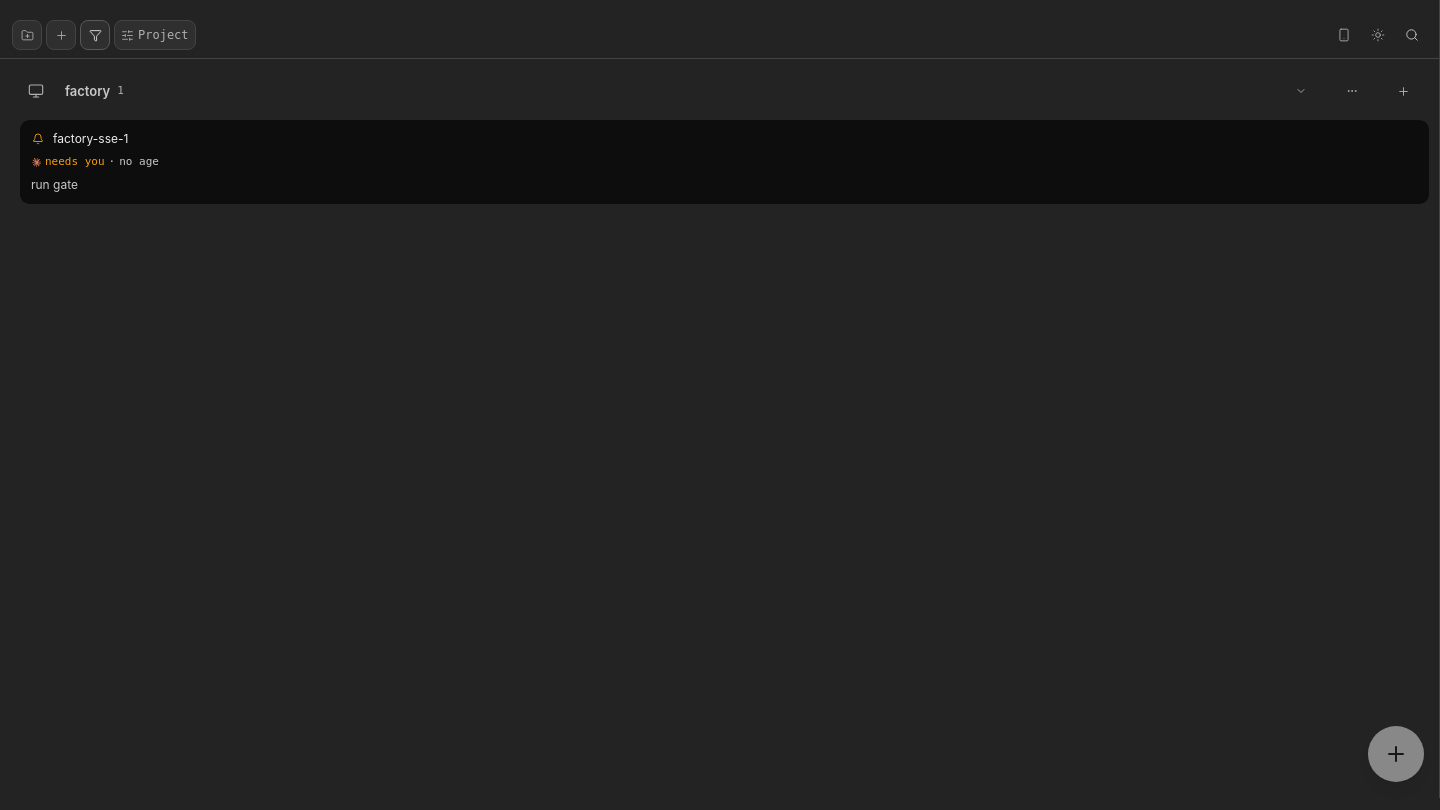
the phone session screen’s identity › names the session once, in the app bar, and keeps the prompt target there
What coordinates should you click on to do the following:
click the button "factory-sse-1 needs you · no age run gate"
I would click on:
 (91, 138)
Its box is [20, 120, 1429, 204].
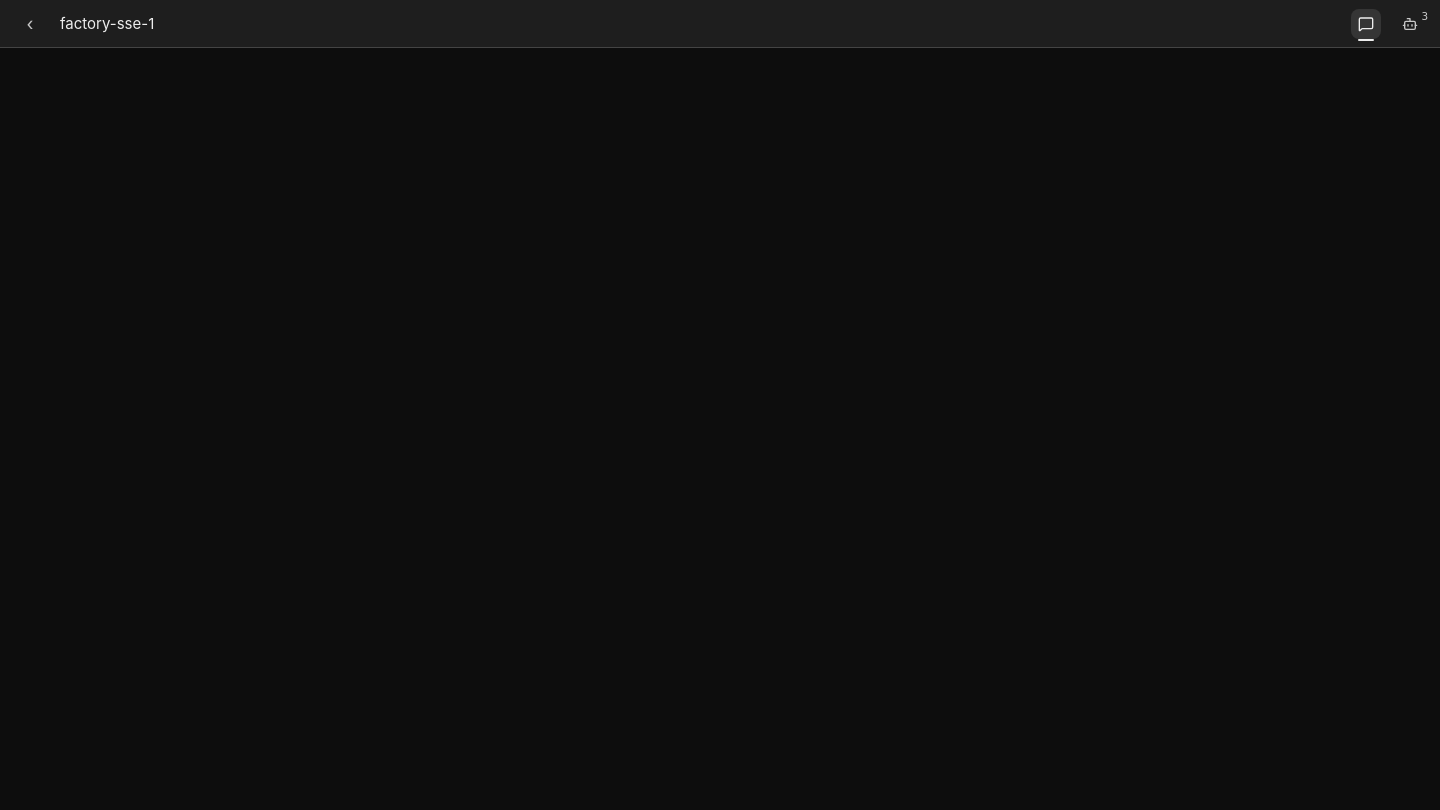
expect the text "factory-sse-1" is shown: met, box [60, 14, 154, 32]
expect the header is shown: met, box [0, 0, 1439, 48]
